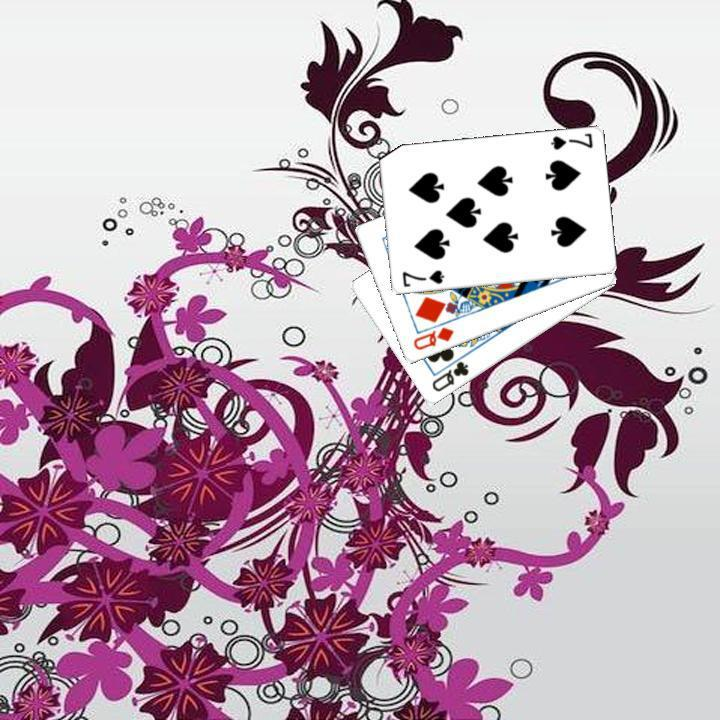7: (397, 266, 446, 289), (546, 129, 594, 152)
Q: (427, 357, 471, 394), (409, 323, 456, 352)
